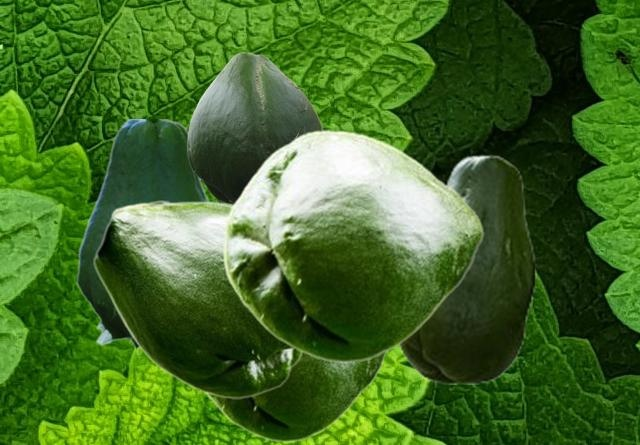sayote: (222, 129, 483, 362), (93, 200, 304, 398), (396, 154, 535, 383), (76, 119, 209, 357), (187, 52, 323, 202), (203, 353, 388, 441)
